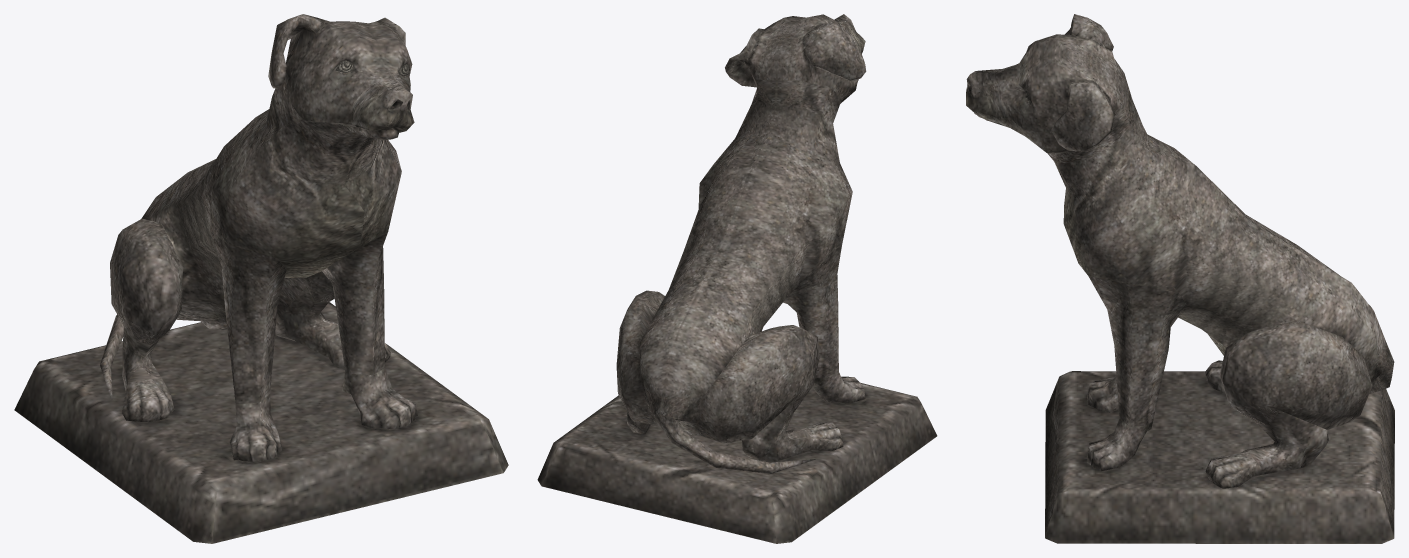
Rendered from dogStatue.dae.
3 views of the same model, side by side, from view 1: azimuth 30°, elevation 25°; view 2: azimuth 150°, elevation 25°; view 3: azimuth 270°, elevation 25° (orthographic). The views are drawn at different scales.
Parts seen in each view (by area): view 1: DogStatuesss; view 2: DogStatuesss; view 3: DogStatuesss.
Part boxes in pixels (x1=…): DogStatuesss: x1=14, y1=14, x2=508, y2=543; DogStatuesss: x1=537, y1=14, x2=937, y2=543; DogStatuesss: x1=966, y1=14, x2=1394, y2=543.
Bounding box in the file's own units: 0.5855 × 0.8669 × 0.7631.
Materials: 1 (1 with a texture image).
